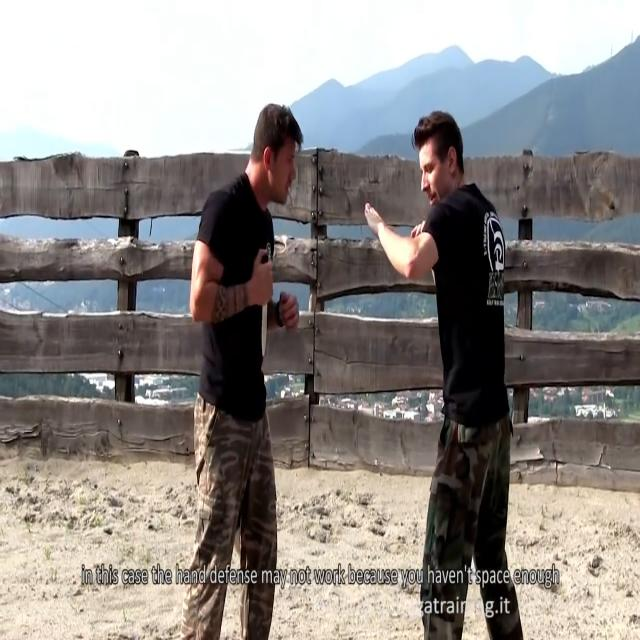knife: (262, 239, 273, 358)
